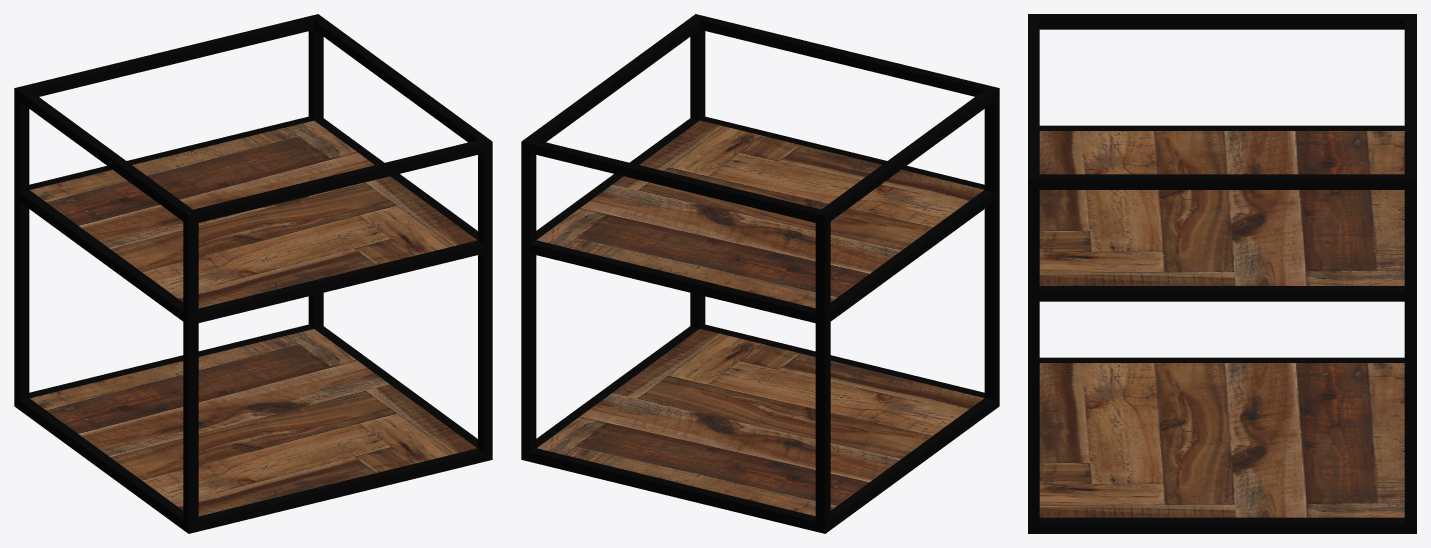
The model's file is example23.glb.
The picture shows the model from 3 angles, left to right: view 1: azimuth 30°, elevation 25°; view 2: azimuth 150°, elevation 25°; view 3: azimuth 270°, elevation 25°; orthographic projection. The views are drawn at different scales.
Parts seen in each view (by area): view 1: Merged Objects, Cube_3; view 2: Merged Objects, Cube_3; view 3: Merged Objects, Cube_3.
Boxes of the visible parts, <box> form: Merged Objects: <box>30,120,477,516</box>; Cube_3: <box>14,14,492,533</box>; Merged Objects: <box>536,120,984,516</box>; Cube_3: <box>521,14,999,533</box>; Merged Objects: <box>1039,131,1404,517</box>; Cube_3: <box>1028,14,1416,533</box>.
Size of the model in its own units: 0.804 by 0.804 by 0.7989.
2 materials, 1 textured.
